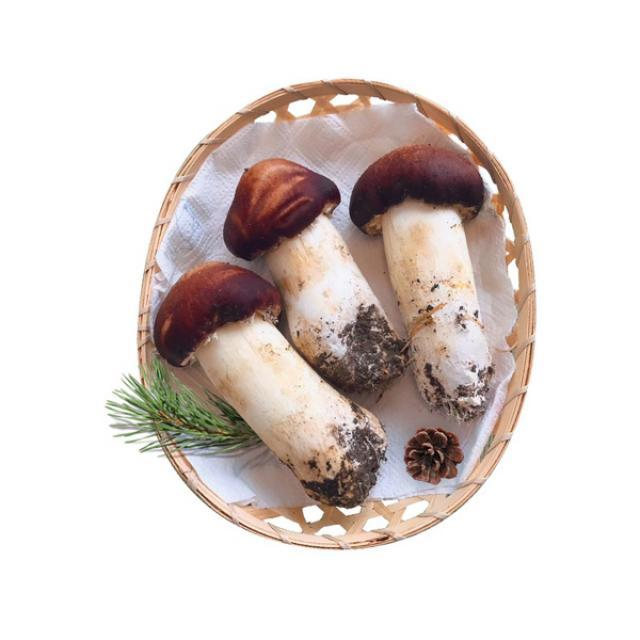Agaricus blazei Murill: (162, 263, 394, 501), (353, 142, 507, 418), (226, 157, 400, 386)
